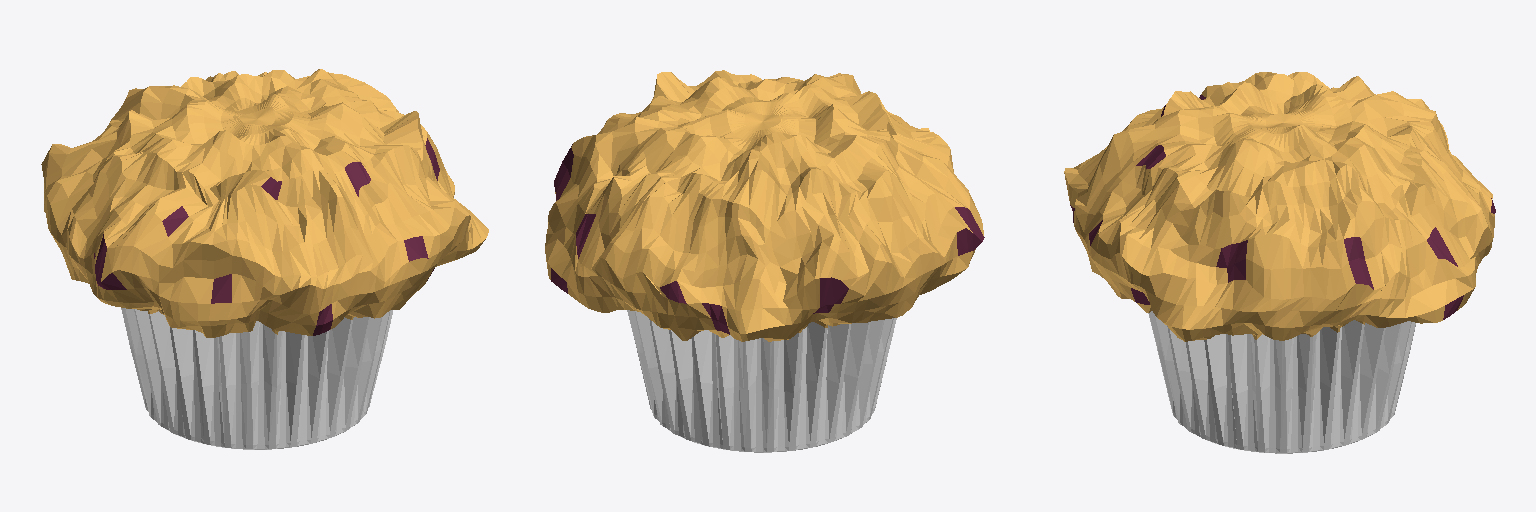
The model's file is Blueberry_Muffin.obj.
3 views of the same model, side by side, from view 1: azimuth 30°, elevation 25°; view 2: azimuth 150°, elevation 25°; view 3: azimuth 270°, elevation 25° (orthographic).
Visible parts, largest first — view 1: Muffin001; view 2: Muffin001; view 3: Muffin001.
Part boxes in pixels (bbox=[...]): Muffin001: bbox=[41, 69, 488, 449]; Muffin001: bbox=[545, 70, 984, 452]; Muffin001: bbox=[1064, 72, 1495, 453].
Bounding box in the file's own units: 215 × 166 × 215.